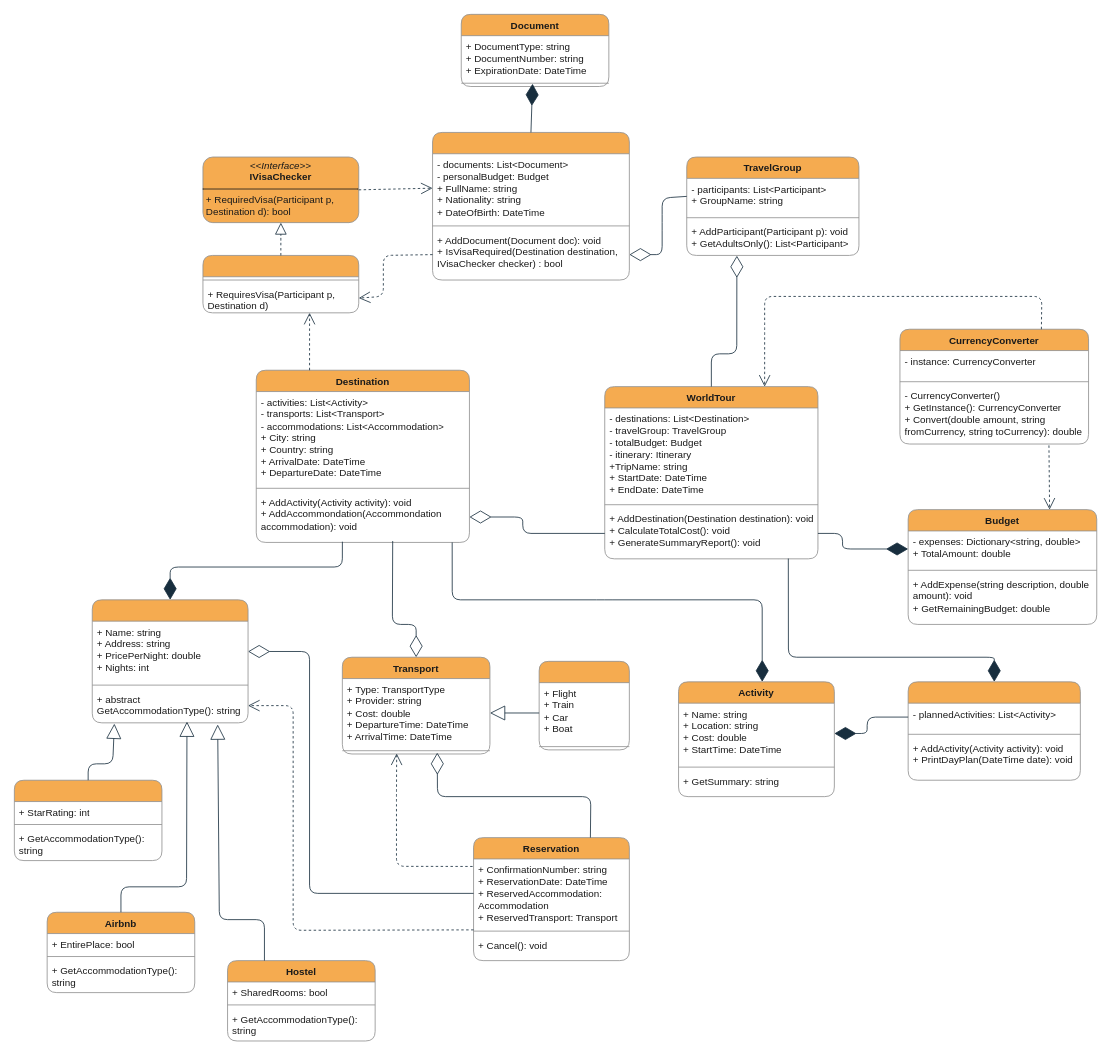
Image size: 1111x1058. Some labels were removed from this diagram. The shapes that lost their labels are listed below. From the top down, each one's box as (x1, y1, x2, y2) in pixels, then its label:
(432, 132, 629, 280): Participant
(202, 255, 359, 313): VisaRequirementChecker
(91, 599, 248, 723): abstract Accommodation
(538, 661, 629, 750): TransportType
(907, 681, 1080, 780): Itinerary
(14, 779, 162, 861): Hotel
